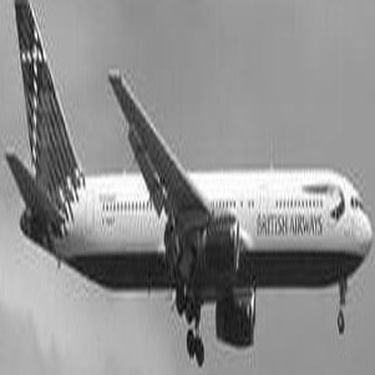airplane: (7, 4, 369, 371)
